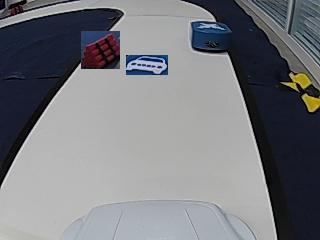prop: (190, 21, 233, 53)
